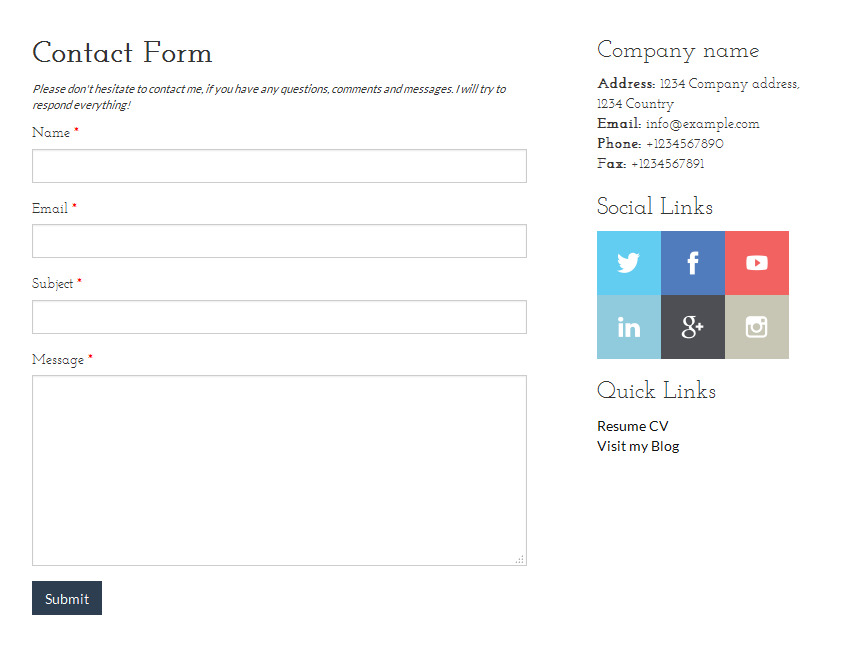_form_: (15, 345, 542, 624), (21, 115, 542, 341)
button: (30, 580, 105, 615)
field: (28, 373, 529, 567), (28, 147, 530, 184), (28, 223, 528, 259), (29, 299, 529, 334)
field_with_label: (25, 352, 533, 570), (25, 123, 531, 186), (25, 275, 532, 336), (26, 202, 530, 261)
